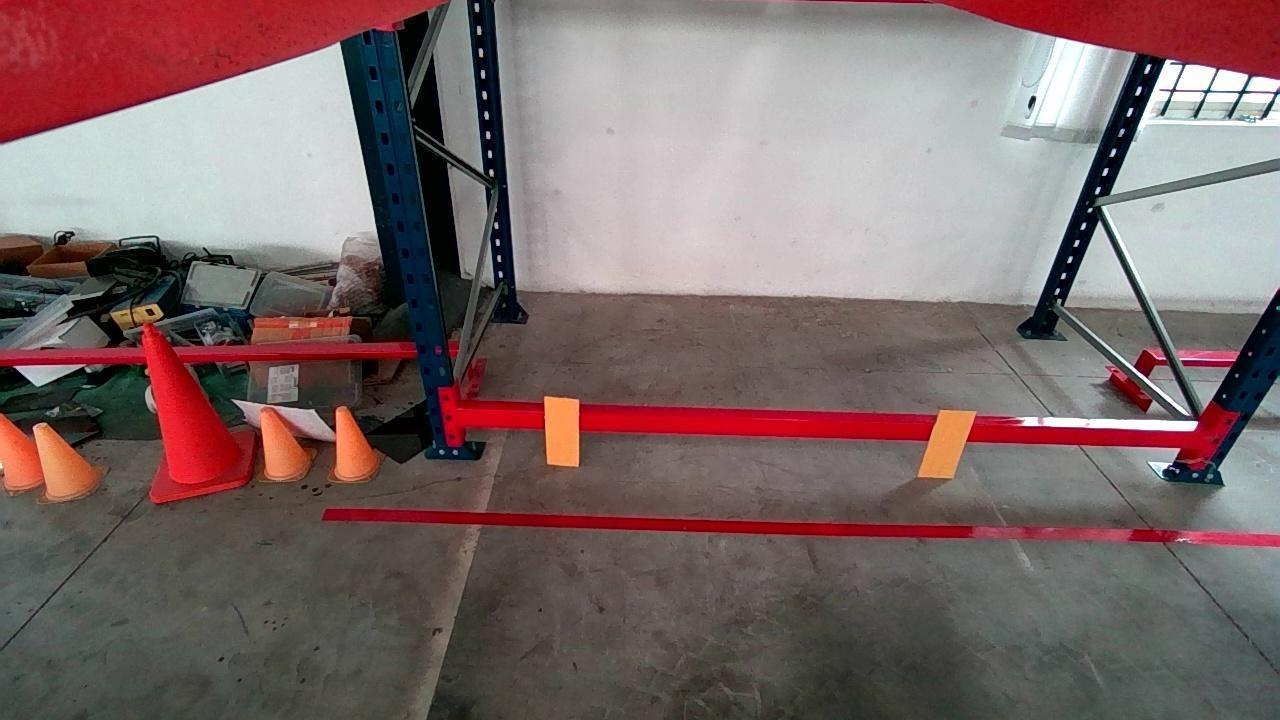h_rack: (458, 406, 1204, 449)
orange_strip: (916, 408, 976, 481), (545, 399, 579, 464)
red_line: (322, 507, 1280, 546)
